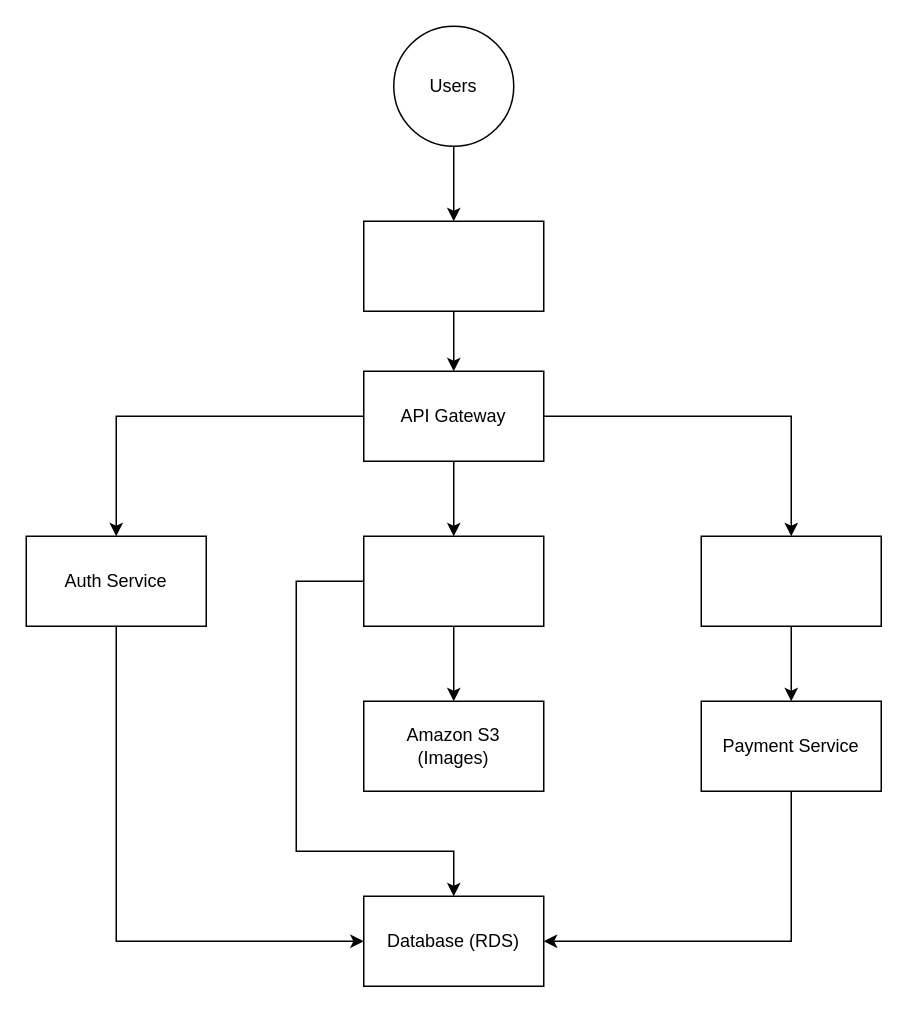
This 908x1013 diagram has some shape labels left out. The box of each missing label's shape, as (x1, y1, x2, y2) in pixels:
Order Service: (700, 535, 881, 626)
Product Service: (362, 535, 544, 626)
Web / Mobile App: (362, 220, 544, 311)
